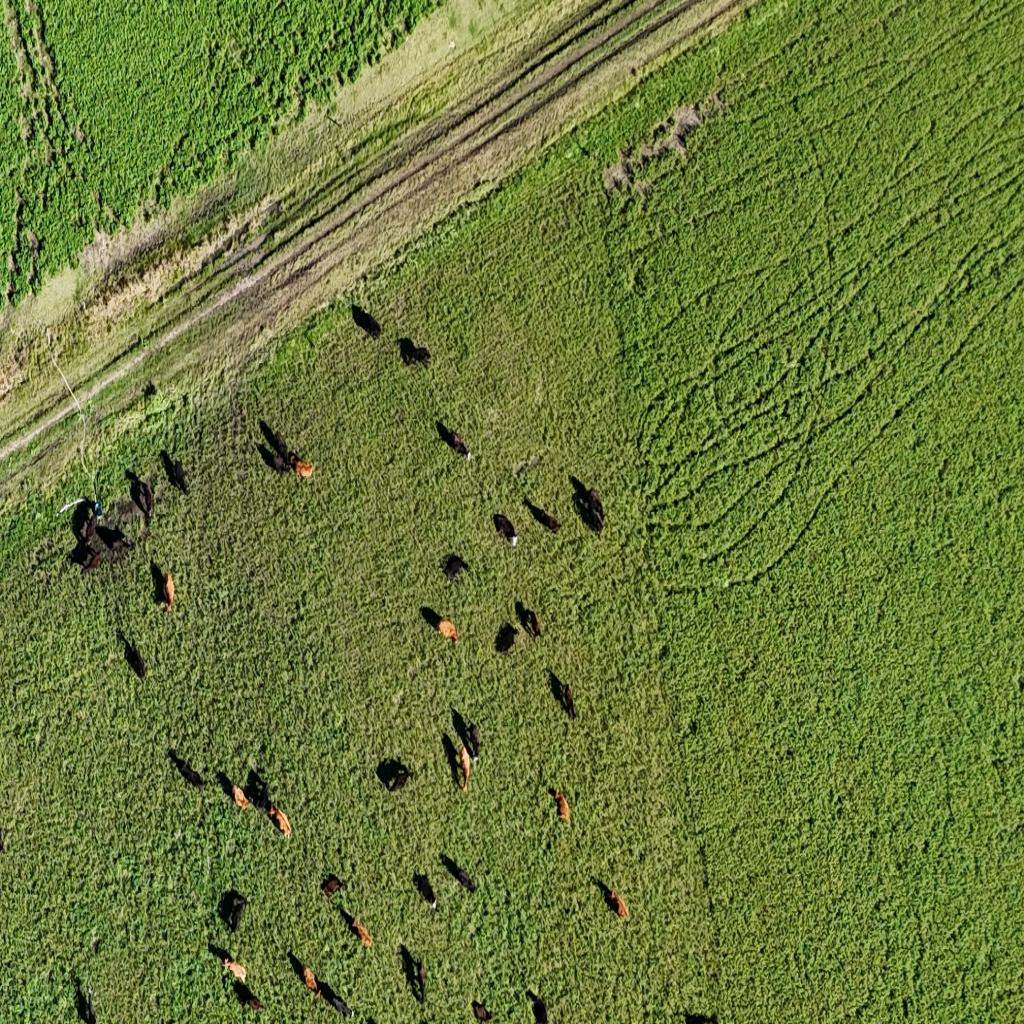cow: (98, 514, 135, 574), (289, 952, 321, 1004), (422, 606, 462, 646), (318, 974, 352, 1019), (168, 748, 205, 788), (128, 471, 155, 525), (596, 878, 629, 922), (160, 448, 190, 495), (442, 854, 477, 894), (246, 768, 274, 817), (524, 497, 562, 532), (436, 421, 471, 459), (120, 633, 148, 680), (220, 889, 249, 933), (377, 757, 412, 792), (259, 441, 293, 477), (65, 537, 99, 571), (351, 303, 382, 340), (153, 563, 175, 615), (516, 599, 543, 641), (399, 338, 433, 370), (73, 501, 98, 542), (585, 487, 606, 534), (76, 980, 98, 1024), (414, 871, 438, 911), (494, 513, 520, 549), (268, 804, 292, 840), (441, 554, 471, 582), (551, 783, 572, 822), (526, 988, 548, 1023), (350, 916, 377, 944), (456, 741, 472, 788), (495, 622, 518, 654), (270, 428, 290, 462), (289, 452, 313, 480), (231, 781, 253, 811), (568, 475, 593, 501), (222, 956, 248, 981), (513, 454, 539, 478), (242, 989, 266, 1013), (416, 957, 428, 1004), (321, 874, 344, 898), (472, 999, 494, 1024), (468, 720, 481, 762), (563, 681, 576, 721), (684, 1011, 718, 1024), (365, 1013, 380, 1024)
